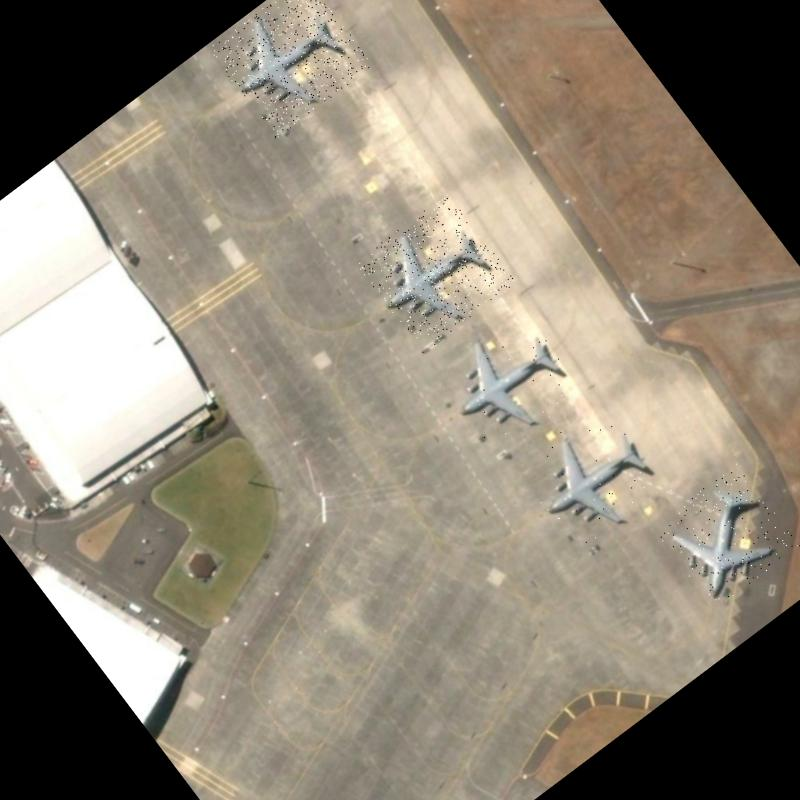A3: (512, 396, 676, 560), (355, 192, 517, 353), (428, 300, 588, 458), (208, 0, 374, 139), (652, 462, 800, 610)
